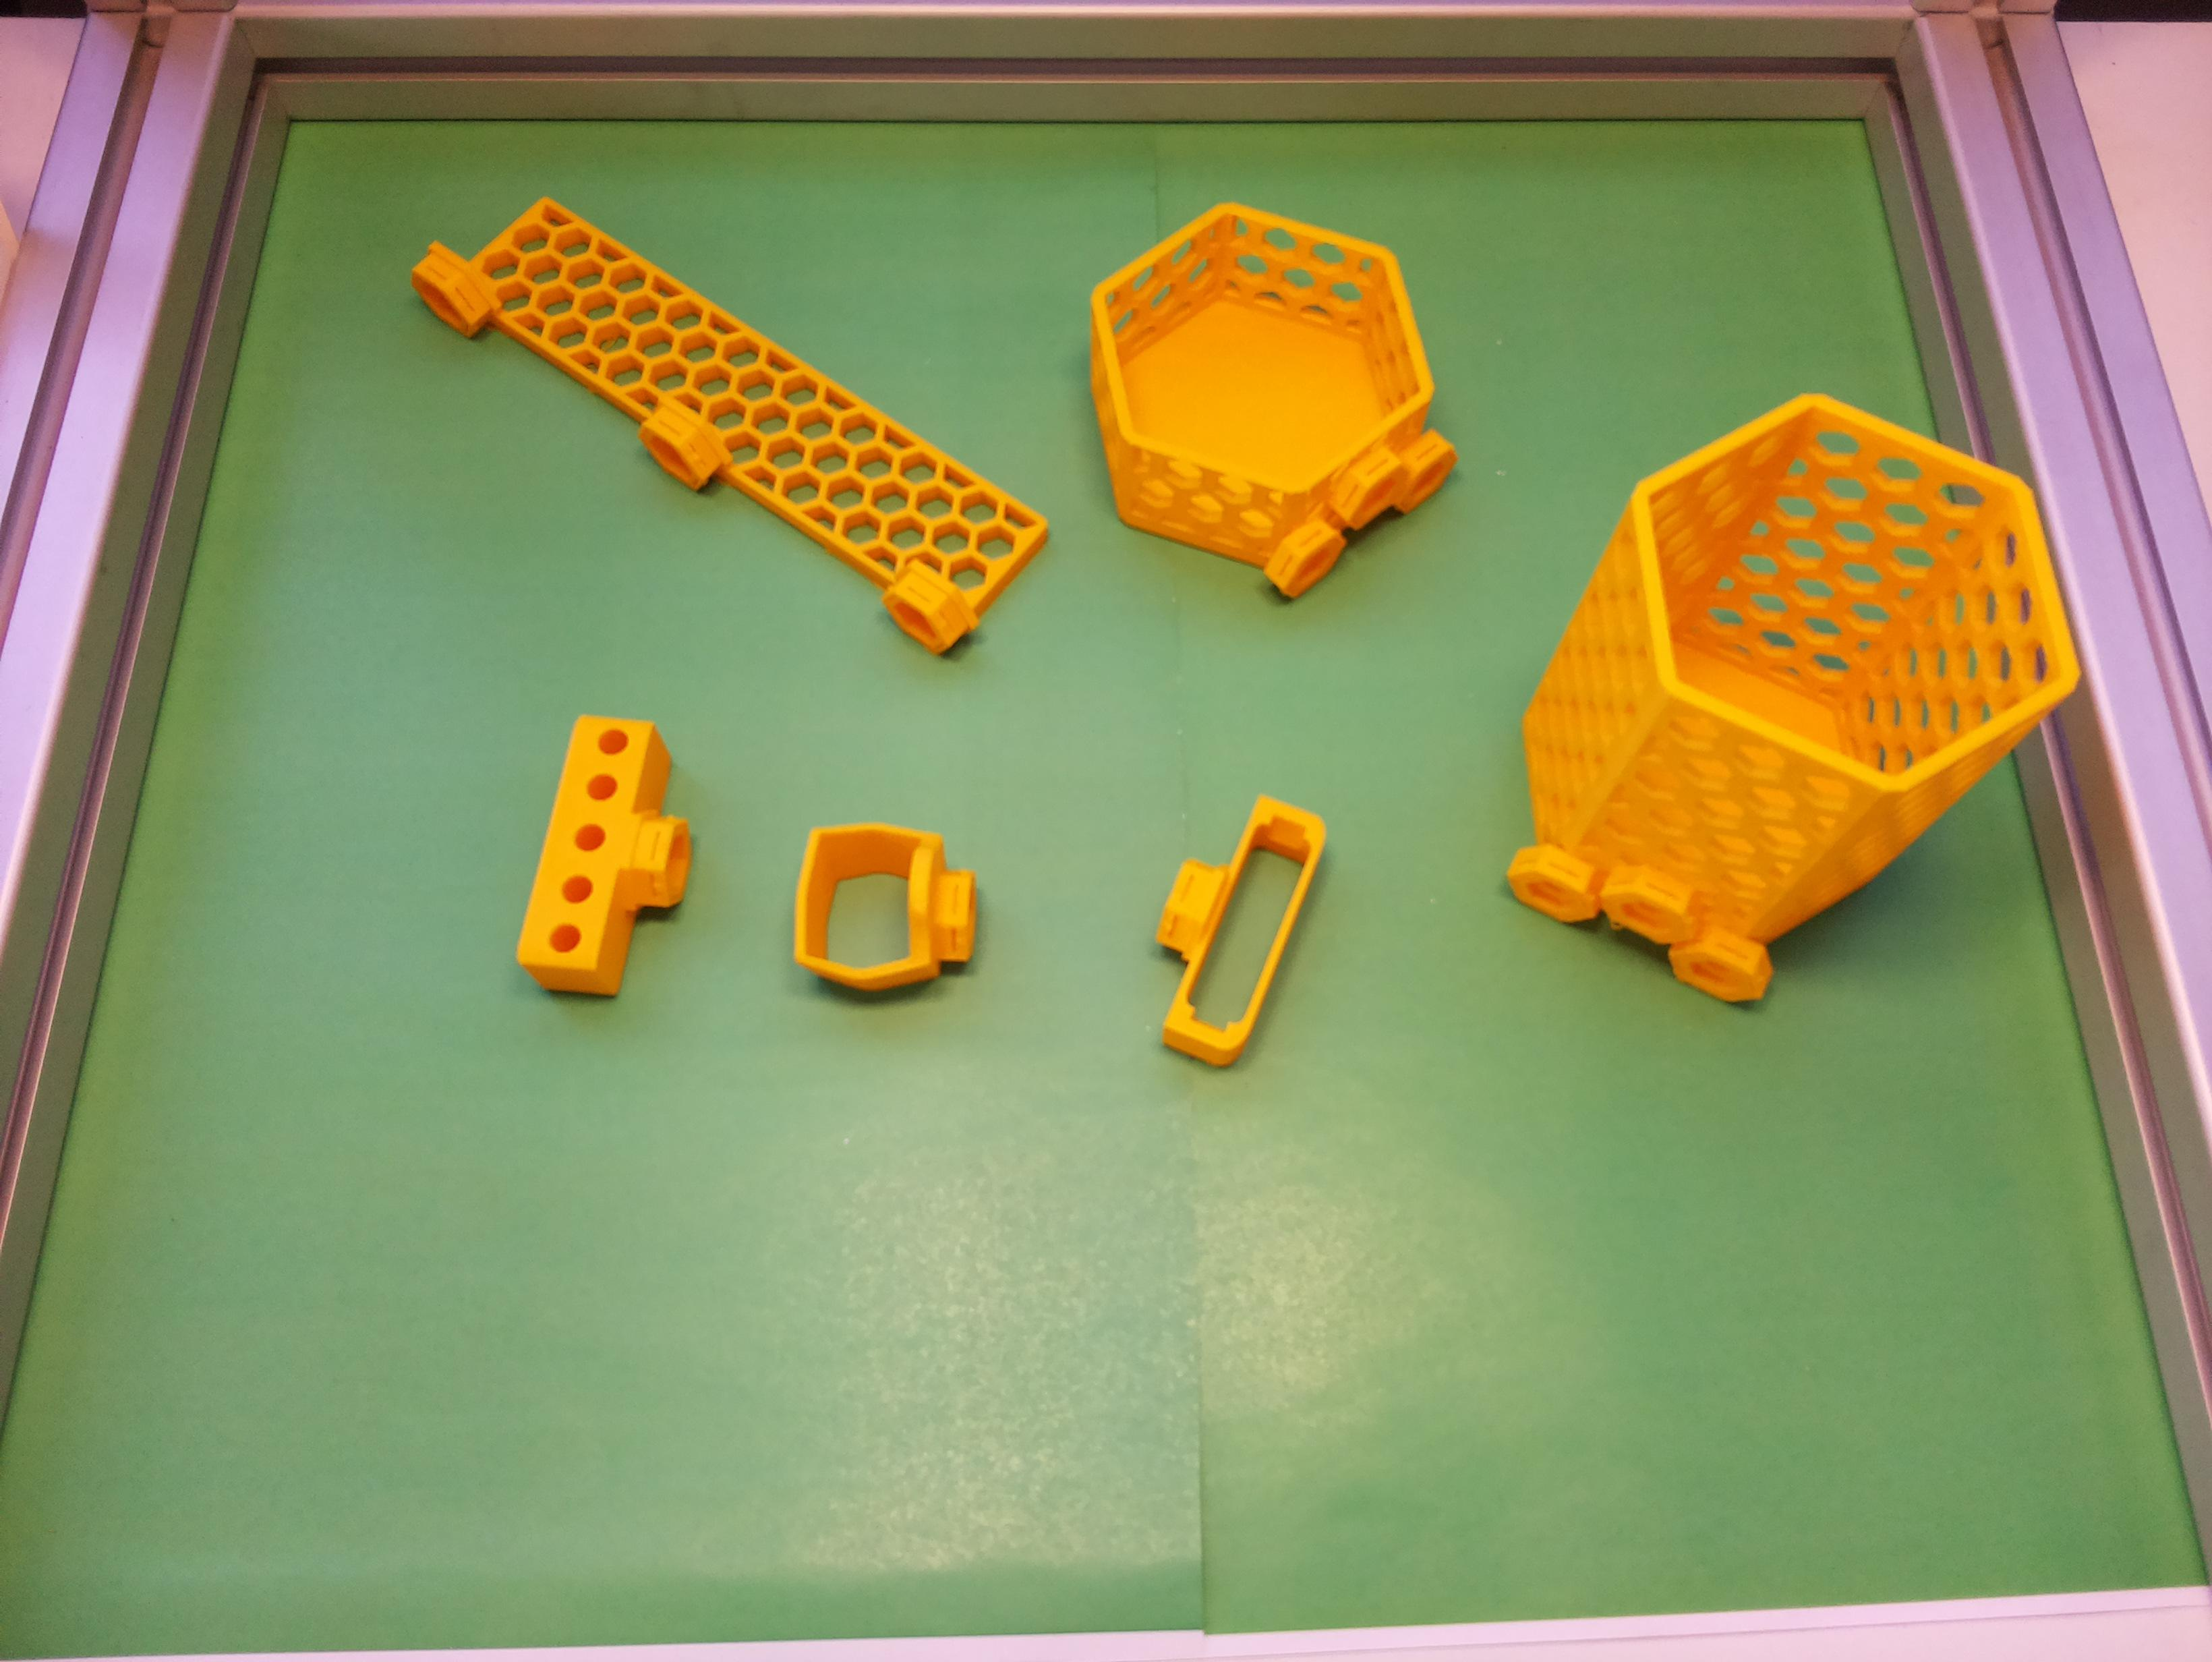bit_holder: (512, 705, 718, 1013)
bottle_holder: (1041, 159, 1482, 639)
cup_holder: (1449, 326, 2147, 1079)
cutter_holder: (1117, 775, 1336, 1074)
scissor_holder: (786, 815, 986, 1002)
tool_holder: (393, 155, 1056, 670)
